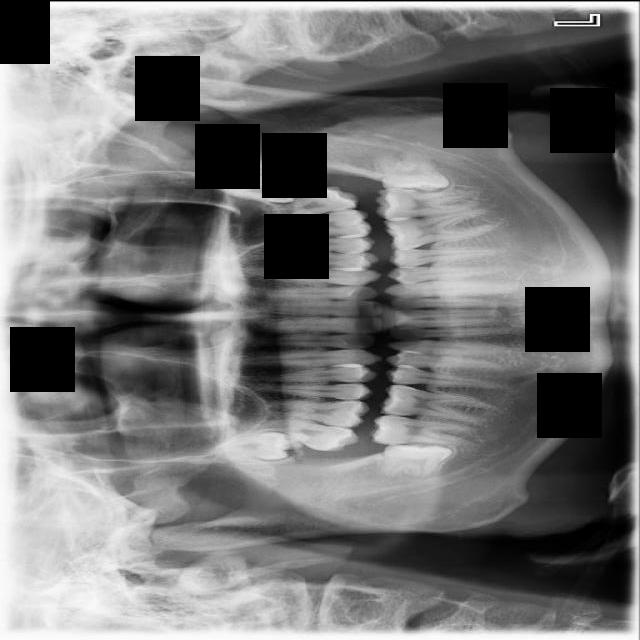3M ESPE Implant: (214, 429, 292, 459)
73: (567, 20, 591, 28)
BioHorizons Implant: (261, 180, 358, 224)
BioLife Implant: (215, 175, 299, 202)
Biomet 3i Implant: (375, 151, 451, 191)
Blue Sky Bio Implant: (375, 188, 479, 220)
Caries: (255, 412, 361, 456)
Implant: (369, 413, 472, 445)
Keystone Dental Implant: (380, 442, 452, 479)
